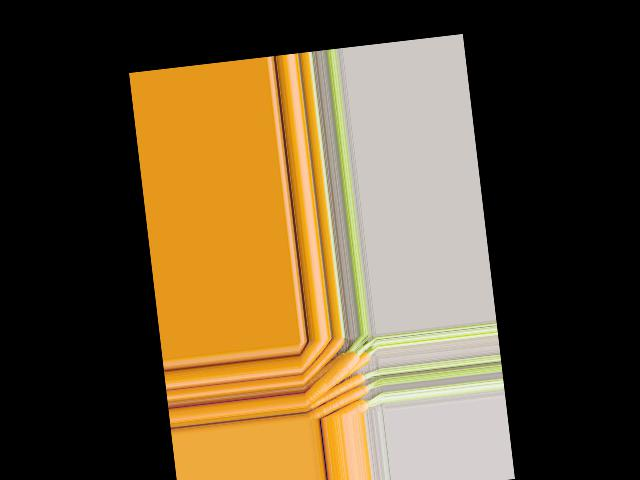carrot: (298, 338, 348, 379)
